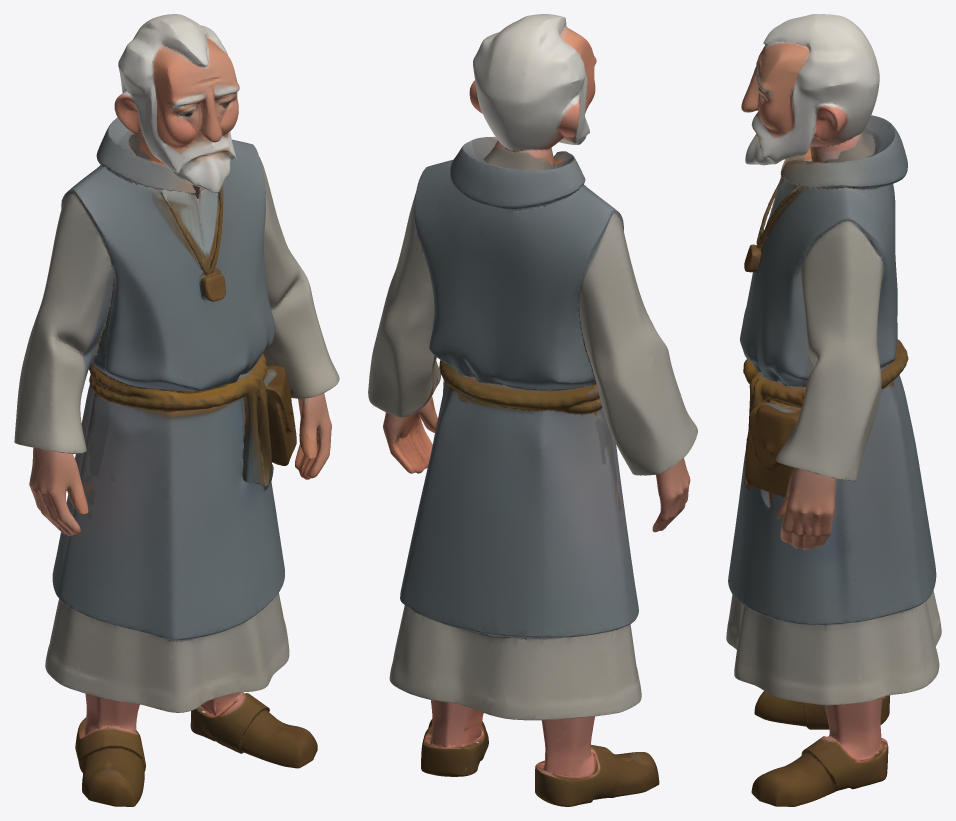
Rendered from base_basic_pbr.fbx.
3 views of the same model, side by side, from view 1: azimuth 30°, elevation 25°; view 2: azimuth 150°, elevation 25°; view 3: azimuth 270°, elevation 25° (orthographic). The views are drawn at different scales.
Visible parts, largest first — view 1: model; view 2: model; view 3: model.
Boxes of the visible parts, left/top/right/bottom form: model: left=14, top=14, right=339, bottom=806; model: left=368, top=14, right=697, bottom=806; model: left=726, top=14, right=941, bottom=806.
Size of the model in its own units: 82.47 by 190 by 50.52.
Materials: 1 (1 with a texture image).
